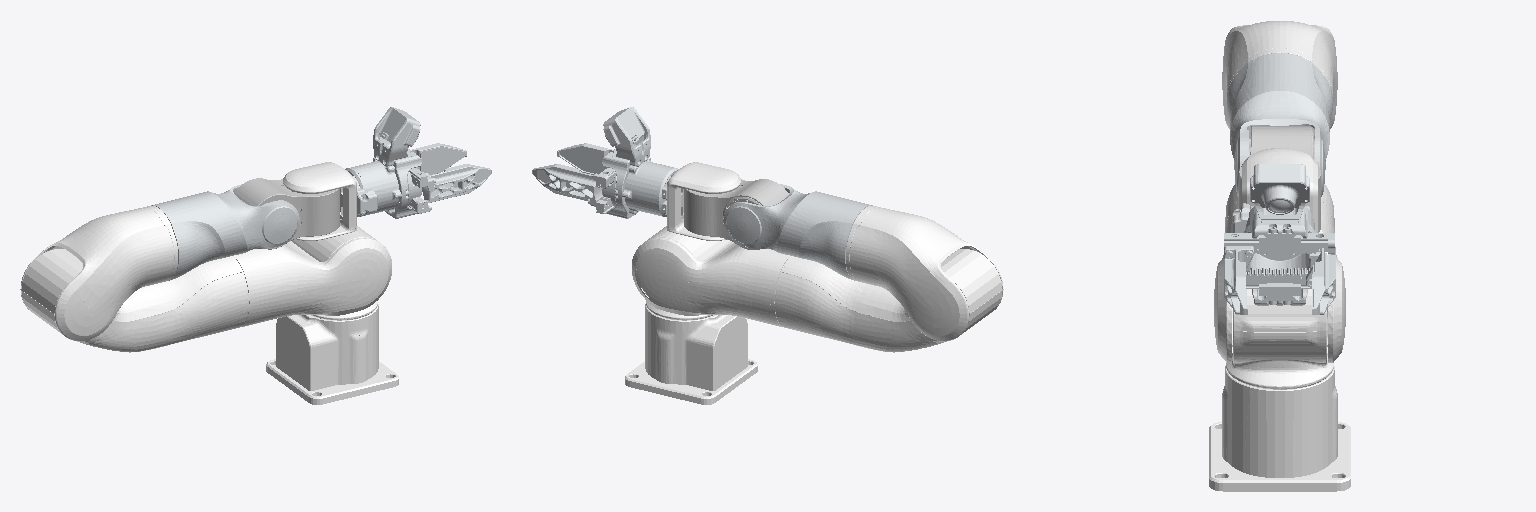
URDF robot description (D2_URDF):
<?xml version="1.0" encoding="utf-8"?>
<!-- This URDF was automatically created by SolidWorks to URDF Exporter! Originally created by Stephen Brawner (brawner@gmail.com) 
     Commit Version: 1.6.0-4-g7f85cfe  Build Version: 1.6.7995.38578
     For more information, please see http://wiki.ros.org/sw_urdf_exporter -->
<robot
  name="D2_URDF">
  <link
    name="base_link">
    <inertial>
      <origin
        xyz="-0.0030416 5.4731E-06 0.037081"
        rpy="0 0 0" />
      <mass
        value="0.978815939026316" />
      <inertia
        ixx="0.00065474"
        ixy="8.1752E-07"
        ixz="-1.05E-05"
        iyy="0.00055033"
        iyz="-2.3459E-08"
        izz="0.00071198" />
    </inertial>
    <visual>
      <origin
        xyz="0 0 0"
        rpy="0 0 0" />
      <geometry>
        <mesh
          filename="package://D2_URDF/meshes/base_link.STL" />
      </geometry>
      <material
        name="">
        <color
          rgba="1 1 1 1" />
      </material>
    </visual>
    <collision>
      <origin
        xyz="0 0 0"
        rpy="0 0 0" />
      <geometry>
        <mesh
          filename="package://D2_URDF/meshes/base_link.STL" />
      </geometry>
    </collision>
  </link>
  <link
    name="link_1">
    <inertial>
      <origin
        xyz="0.00018625 0.0028108 0.048197"
        rpy="0 0 0" />
      <mass
        value="0.90463101514463" />
      <inertia
        ixx="0.00044894"
        ixy="-7.3834E-07"
        ixz="-2.9057E-06"
        iyy="0.00051997"
        iyz="-7.5596E-06"
        izz="0.00053206" />
    </inertial>
    <visual>
      <origin
        xyz="0 0 0"
        rpy="0 0 0" />
      <geometry>
        <mesh
          filename="package://D2_URDF/meshes/link_1.STL" />
      </geometry>
      <material
        name="">
        <color
          rgba="1 1 1 1" />
      </material>
    </visual>
    <collision>
      <origin
        xyz="0 0 0"
        rpy="0 0 0" />
      <geometry>
        <mesh
          filename="package://D2_URDF/meshes/link_1.STL" />
      </geometry>
    </collision>
  </link>
  <joint
    name="joint_1"
    type="revolute">
    <origin
      xyz="0 0 0.071"
      rpy="0 0 0" />
    <parent
      link="base_link" />
    <child
      link="link_1" />
    <axis
      xyz="0 0 1" />
    <limit
      lower="-2.7227"
      upper="2.7227"
      effort="0"
      velocity="0" />
  </joint>
  <link
    name="link_2">
    <inertial>
      <origin
        xyz="-0.080215 -0.040235 -0.00055867"
        rpy="0 0 0" />
      <mass
        value="0.988504630899383" />
      <inertia
        ixx="0.00056364"
        ixy="-9.7233E-06"
        ixz="3.1963E-06"
        iyy="0.0010076"
        iyz="-2.904E-07"
        izz="0.0009018" />
    </inertial>
    <visual>
      <origin
        xyz="0 0 0"
        rpy="0 0 0" />
      <geometry>
        <mesh
          filename="package://D2_URDF/meshes/link_2.STL" />
      </geometry>
      <material
        name="">
        <color
          rgba="1 1 1 1" />
      </material>
    </visual>
    <collision>
      <origin
        xyz="0 0 0"
        rpy="0 0 0" />
      <geometry>
        <mesh
          filename="package://D2_URDF/meshes/link_2.STL" />
      </geometry>
    </collision>
  </link>
  <joint
    name="joint_2"
    type="revolute">
    <origin
      xyz="-6.5708949380125E-05 0.041 0.051"
      rpy="0 0 0" />
    <parent
      link="link_1" />
    <child
      link="link_2" />
    <axis
      xyz="0 1 0" />
    <limit
      lower="0"
      upper="3.4034"
      effort="0"
      velocity="0" />
  </joint>
  <link
    name="link_3">
    <inertial>
      <origin
        xyz="-0.11872 -0.00087188 0.020828"
        rpy="0 0 0" />
      <mass
        value="1.01188099441379" />
      <inertia
        ixx="0.00060444"
        ixy="-6.2024E-06"
        ixz="-0.00017512"
        iyy="0.0020826"
        iyz="-7.7017E-07"
        izz="0.0021527" />
    </inertial>
    <visual>
      <origin
        xyz="0 0 0"
        rpy="0 0 0" />
      <geometry>
        <mesh
          filename="package://D2_URDF/meshes/link_3.STL" />
      </geometry>
      <material
        name="">
        <color
          rgba="1 1 1 1" />
      </material>
    </visual>
    <collision>
      <origin
        xyz="0 0 0"
        rpy="0 0 0" />
      <geometry>
        <mesh
          filename="package://D2_URDF/meshes/link_3.STL" />
      </geometry>
    </collision>
  </link>
  <joint
    name="joint_3"
    type="revolute">
    <origin
      xyz="-0.137934292304992 -0.041 0"
      rpy="0 0 0" />
    <parent
      link="link_2" />
    <child
      link="link_3" />
    <axis
      xyz="1 0 0" />
    <limit
      lower="-2.7925"
      upper="2.7925"
      effort="0"
      velocity="0" />
  </joint>
  <link
    name="link_4">
    <inertial>
      <origin
        xyz="0.067319 0.035024 0.029057"
        rpy="0 0 0" />
      <mass
        value="0.74397482133801" />
      <inertia
        ixx="0.00043617"
        ixy="5.6988E-06"
        ixz="6.1035E-05"
        iyy="0.00064151"
        iyz="-8.5606E-08"
        izz="0.00052477" />
    </inertial>
    <visual>
      <origin
        xyz="0 0 0"
        rpy="0 0 0" />
      <geometry>
        <mesh
          filename="package://D2_URDF/meshes/link_4.STL" />
      </geometry>
      <material
        name="">
        <color
          rgba="1 1 1 1" />
      </material>
    </visual>
    <collision>
      <origin
        xyz="0 0 0"
        rpy="0 0 0" />
      <geometry>
        <mesh
          filename="package://D2_URDF/meshes/link_4.STL" />
      </geometry>
    </collision>
  </link>
  <joint
    name="joint_4"
    type="revolute">
    <origin
      xyz="-0.16390903495379 -0.0364999999999997 0.0349474820302971"
      rpy="0 0 0" />
    <parent
      link="link_3" />
    <child
      link="link_4" />
    <axis
      xyz="0 1 0" />
    <limit
      lower="-3.1416"
      upper="0"
      effort="0"
      velocity="0" />
  </joint>
  <link
    name="link_5">
    <inertial>
      <origin
        xyz="0.037228 -0.0004101 0.002758"
        rpy="0 0 0" />
      <mass
        value="0.250577441361768" />
      <inertia
        ixx="9.7267E-05"
        ixy="-4.0732E-07"
        ixz="-1.3043E-06"
        iyy="0.00029103"
        iyz="-1.5336E-07"
        izz="0.00023847" />
    </inertial>
    <visual>
      <origin
        xyz="0 0 0"
        rpy="0 0 0" />
      <geometry>
        <mesh
          filename="package://D2_URDF/meshes/link_5.STL" />
      </geometry>
      <material
        name="">
        <color
          rgba="0.89804 0.91765 0.92941 1" />
      </material>
    </visual>
    <collision>
      <origin
        xyz="0 0 0"
        rpy="0 0 0" />
      <geometry>
        <mesh
          filename="package://D2_URDF/meshes/link_5.STL" />
      </geometry>
    </collision>
  </link>
  <joint
    name="joint_5"
    type="revolute">
    <origin
      xyz="0.11321 0.0365 0.031553"
      rpy="0 0 0" />
    <parent
      link="link_4" />
    <child
      link="link_5" />
    <axis
      xyz="1 0 0" />
    <limit
      lower="-1.7802"
      upper="1.7802"
      effort="0"
      velocity="0" />
  </joint>
  <link
    name="link_6">
    <inertial>
      <origin
        xyz="0.025306 -0.023213 -0.00074849"
        rpy="0 0 0" />
      <mass
        value="0.756134727110493" />
      <inertia
        ixx="0.00028001"
        ixy="4.166E-07"
        ixz="4.17E-06"
        iyy="0.00070828"
        iyz="-6.7034E-08"
        izz="0.00070785" />
    </inertial>
    <visual>
      <origin
        xyz="0 0 0"
        rpy="0 0 0" />
      <geometry>
        <mesh
          filename="package://D2_URDF/meshes/link_6.STL" />
      </geometry>
      <material
        name="">
        <color
          rgba="0.85098 0.85098 0.85098 1" />
      </material>
    </visual>
    <collision>
      <origin
        xyz="0 0 0"
        rpy="0 0 0" />
      <geometry>
        <mesh
          filename="package://D2_URDF/meshes/link_6.STL" />
      </geometry>
    </collision>
  </link>
  <joint
    name="joint_6"
    type="revolute">
    <origin
      xyz="0.1057 0.024 0.0034999"
      rpy="0 0 0" />
    <parent
      link="link_5" />
    <child
      link="link_6" />
    <axis
      xyz="0 1 0" />
    <limit
      lower="-1.5097"
      upper="1.5097"
      effort="0"
      velocity="0" />
  </joint>
  <link
    name="link_7">
    <inertial>
      <origin
        xyz="0.01812 -1.1699E-06 0.025328"
        rpy="0 0 0" />
      <mass
        value="0.0910180586464669" />
      <inertia
        ixx="2.5481E-05"
        ixy="2.7363E-09"
        ixz="-1.115E-08"
        iyy="3.2841E-05"
        iyz="1.4762E-10"
        izz="4.8534E-05" />
    </inertial>
    <visual>
      <origin
        xyz="0 0 0"
        rpy="0 0 0" />
      <geometry>
        <mesh
          filename="package://D2_URDF/meshes/link_7.STL" />
      </geometry>
      <material
        name="">
        <color
          rgba="1 1 1 1" />
      </material>
    </visual>
    <collision>
      <origin
        xyz="0 0 0"
        rpy="0 0 0" />
      <geometry>
        <mesh
          filename="package://D2_URDF/meshes/link_7.STL" />
      </geometry>
    </collision>
  </link>
  <joint
    name="joint_7"
    type="revolute">
    <origin
      xyz="0.050998 -0.024 -0.024"
      rpy="0 0 0" />
    <parent
      link="link_6" />
    <child
      link="link_7" />
    <axis
      xyz="0 0 1" />
    <limit
      lower="-1.5708"
      upper="1.5708"
      effort="0"
      velocity="0" />
  </joint>
  <link
    name="link_8">
    <inertial>
      <origin
        xyz="-0.0891938 -6.0015E-05 0.0076243"
        rpy="0 0 0" />
      <mass
        value="0.01" />
      <inertia
        ixx="0.00033958"
        ixy="2.0852E-08"
        ixz="1.5378E-05"
        iyy="0.00017135"
        iyz="-3.7805E-07"
        izz="0.00028051" />
    </inertial>
    <visual>
      <origin
        xyz="-0.0805 0 0"
        rpy="0 0 0" />
      <geometry>
        <mesh
          filename="package://D2_URDF/meshes/link_8.STL" />
      </geometry>
      <material
        name="">
        <color
          rgba="0.89804 0.91765 0.92941 1" />
      </material>
    </visual>
    <collision>
      <origin
        xyz="-0.0805 0 0"
        rpy="0 0 0" />
      <geometry>
        <mesh
          filename="package://D2_URDF/meshes/link_8.STL" />
      </geometry>
    </collision>
  </link>
  <joint
    name="joint_8"
    type="fixed">
    <origin
      xyz="0.1888 0 0.024"
      rpy="0 0 0" />
    <parent
      link="link_7" />
    <child
      link="link_8" />
    <axis
      xyz="0 0 0" />
  </joint>
</robot>

--- What the picture shows (computed from the rendered views, not written in the file) ---
Views: 3 orthographic renders of the robot side by side, from view 1: azimuth 30°, elevation 25°; view 2: azimuth 150°, elevation 25°; view 3: azimuth 270°, elevation 25°.
Robot: D2_URDF — 9 links, 8 joints (7 revolute, 1 fixed); root link base_link; default pose: every joint at zero.
Visible links, largest first — view 1: link_3, link_4, link_2, base_link, link_8, link_5, link_6, link_7, link_1; view 2: link_3, link_4, link_2, base_link, link_8, link_5, link_6, link_7, link_1; view 3: base_link, link_8, link_5, link_1, link_4, link_2, link_6, link_7.
Boxes of the visible links, x1,y1,x2,y2 form: link_3: (21, 249, 248, 352); link_4: (20, 206, 177, 340); link_2: (234, 237, 391, 326); base_link: (266, 304, 398, 404); link_8: (340, 107, 491, 218); link_5: (151, 184, 299, 280); link_6: (234, 178, 339, 249); link_7: (283, 162, 356, 240); link_1: (292, 226, 378, 319); link_3: (775, 249, 1002, 352); link_4: (846, 206, 1003, 340); link_2: (632, 237, 789, 326); base_link: (625, 304, 757, 404); link_8: (532, 107, 683, 218); link_5: (724, 184, 872, 280); link_6: (684, 179, 788, 249); link_7: (667, 162, 740, 240); link_1: (645, 226, 731, 319); base_link: (1209, 366, 1350, 491); link_8: (1224, 164, 1335, 314); link_5: (1227, 53, 1332, 196); link_1: (1226, 253, 1333, 388); link_4: (1222, 21, 1337, 138); link_2: (1214, 200, 1345, 362); link_6: (1239, 126, 1320, 232); link_7: (1242, 148, 1317, 232).
Size in the robot's own frame: 0.4943 by 0.1 by 0.2655 metres.
9 mesh visuals loaded from 9 distinct referenced files (9 binary STL).
